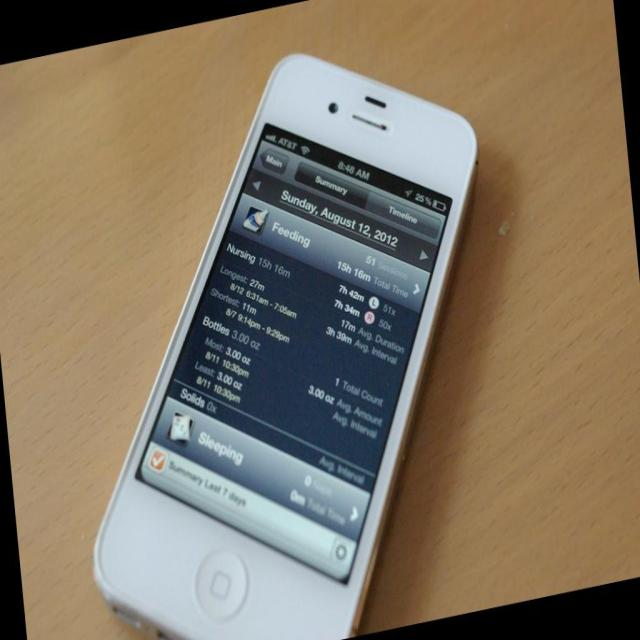handphone: (96, 58, 473, 635)
